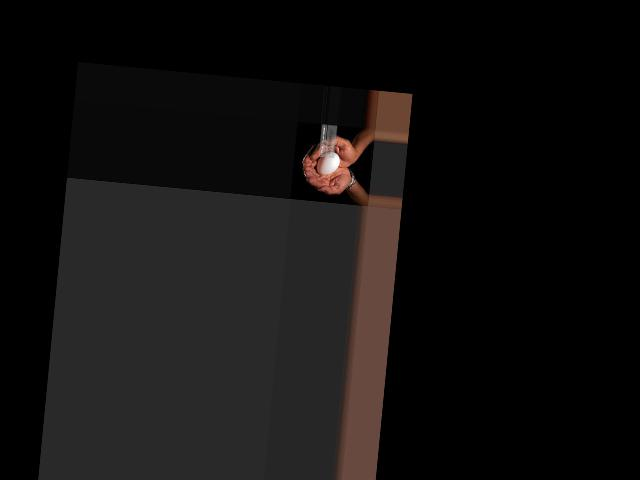egg: (315, 151, 340, 176)
